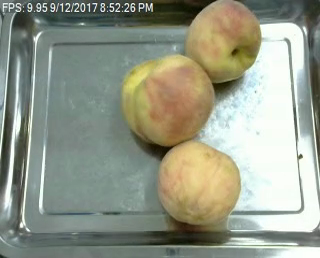Peach: (120, 53, 213, 146), (157, 139, 241, 228), (183, 0, 261, 85)
